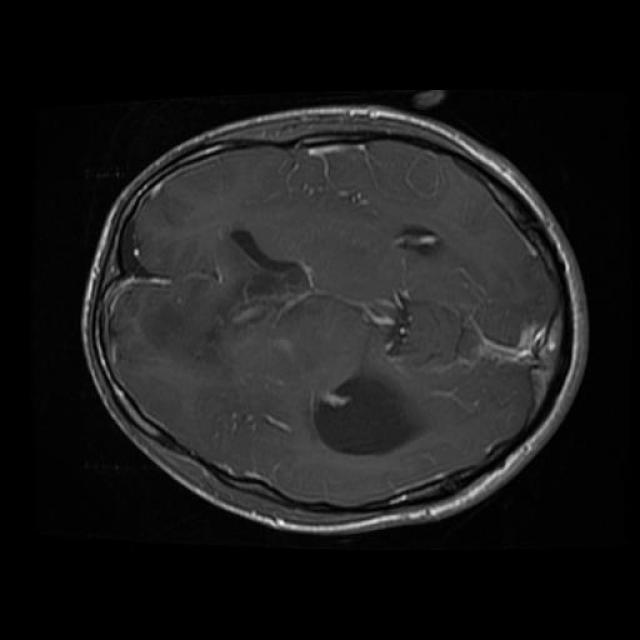Glioma: (314, 371, 416, 453)
